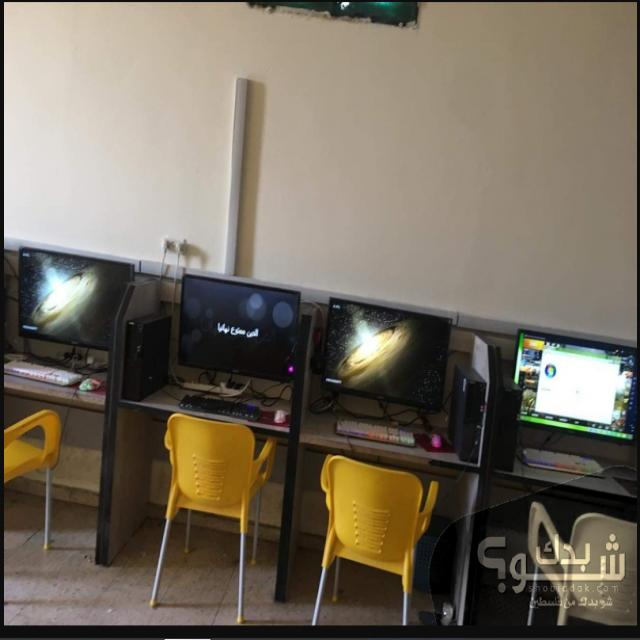chair: (310, 433, 439, 623), (148, 398, 277, 566), (516, 484, 640, 624)
computer: (504, 318, 640, 484), (326, 286, 451, 455), (174, 274, 302, 429), (9, 242, 128, 370)
desk: (7, 339, 133, 448), (144, 374, 303, 459), (489, 419, 640, 502), (306, 398, 447, 485)
